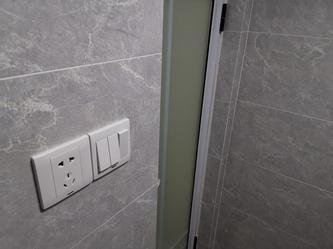switch: (95, 140, 110, 168), (122, 130, 132, 157), (112, 137, 121, 163)
